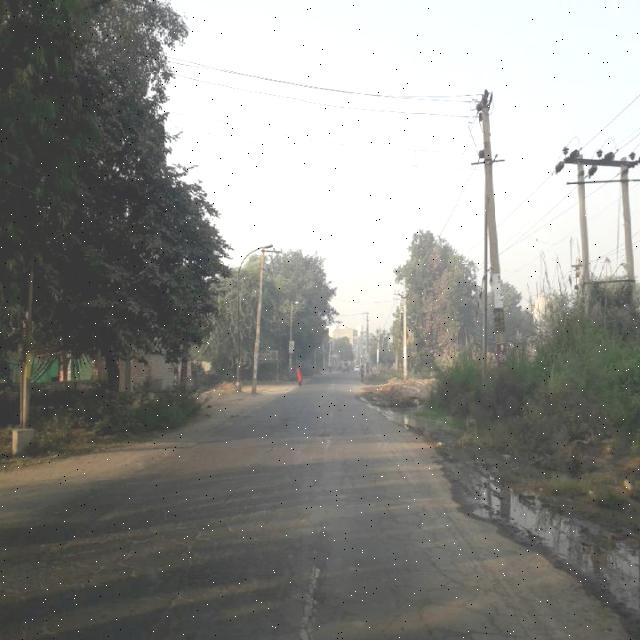D20: (1, 491, 545, 636)
D44: (286, 559, 332, 638)
